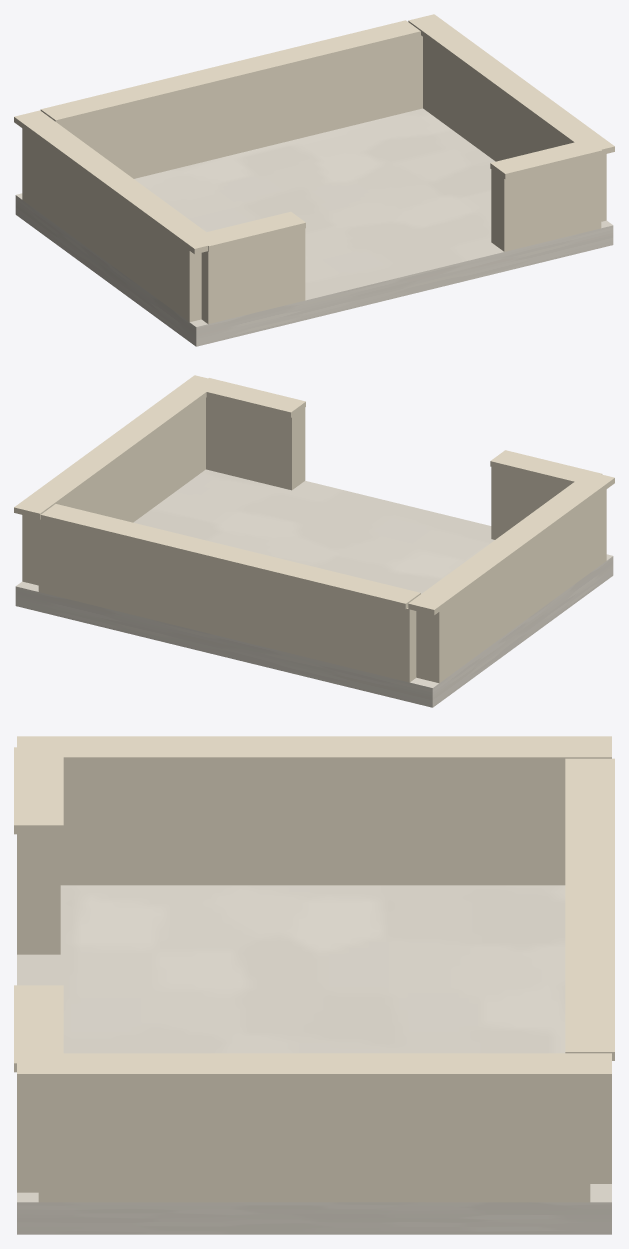
File: town_terrace.glb
3 renders of one model, top to bottom at view 1: azimuth 30°, elevation 25°; view 2: azimuth 150°, elevation 25°; view 3: azimuth 270°, elevation 25°, orthographic. The views are drawn at different scales.
Parts seen in each view (by area): view 1: beach_town_terrace; view 2: beach_town_terrace; view 3: beach_town_terrace.
Boxes of the visible parts, bbox=[...] form: beach_town_terrace: bbox=[14, 14, 614, 346]; beach_town_terrace: bbox=[14, 375, 614, 707]; beach_town_terrace: bbox=[14, 736, 614, 1234].
Bounding box in the file's own units: 4.03 × 0.9 × 3.03.
Materials: 1 (1 with a texture image).
